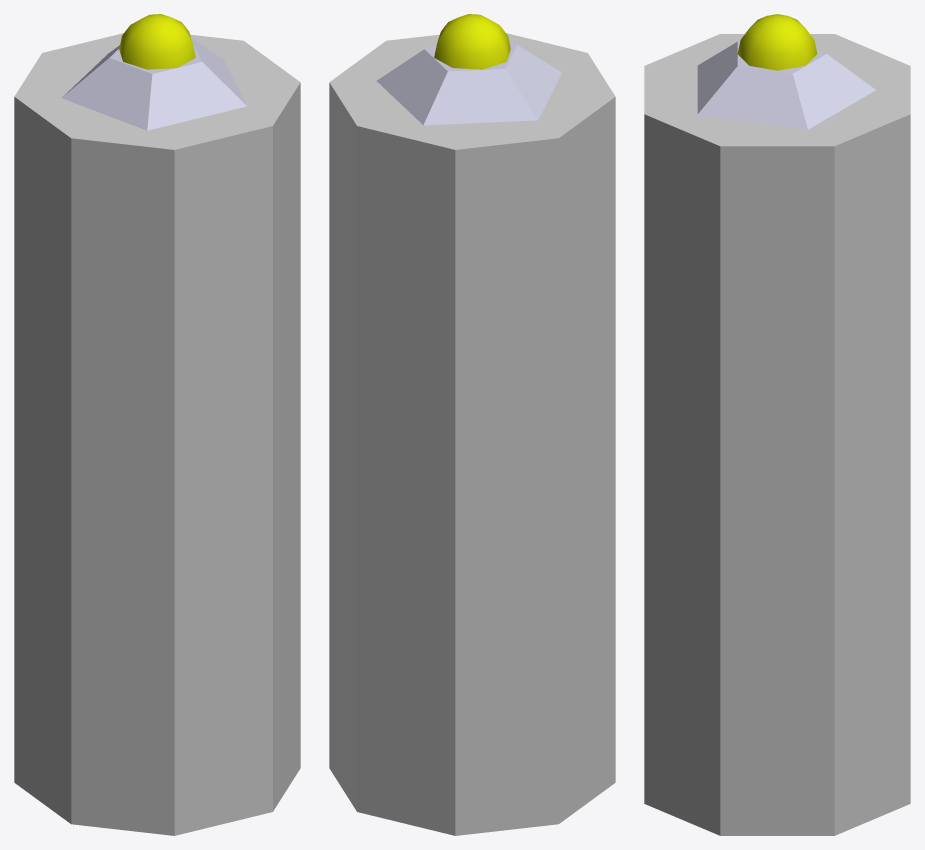
File: bubble_lod1.dae
3 views of the same model, side by side, from view 1: azimuth 30°, elevation 25°; view 2: azimuth 150°, elevation 25°; view 3: azimuth 270°, elevation 25° (orthographic).
Parts seen in each view (by area): view 1: bld_base2_003; view 2: bld_base2_003; view 3: bld_base2_003.
Part boxes in pixels (x1,y1,x2,y2): bld_base2_003: [14, 14, 300, 835]; bld_base2_003: [329, 14, 615, 835]; bld_base2_003: [644, 14, 910, 835].
Bounding box in the file's own units: 20 × 20 × 63.14.
